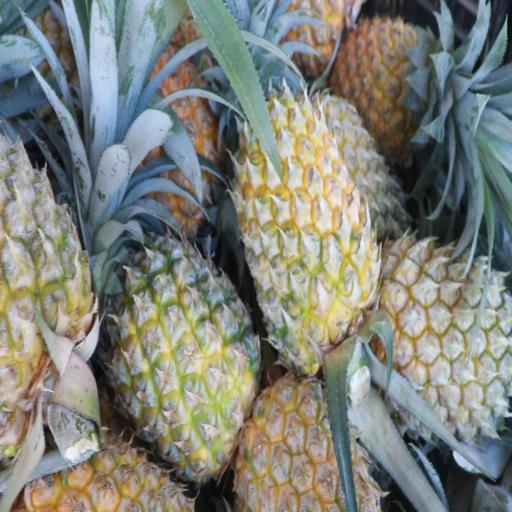------------------------------: (117, 239, 255, 470), (373, 233, 512, 432)
Pineapple - v8 v1: (234, 105, 370, 359), (239, 381, 376, 512), (339, 10, 451, 164)
